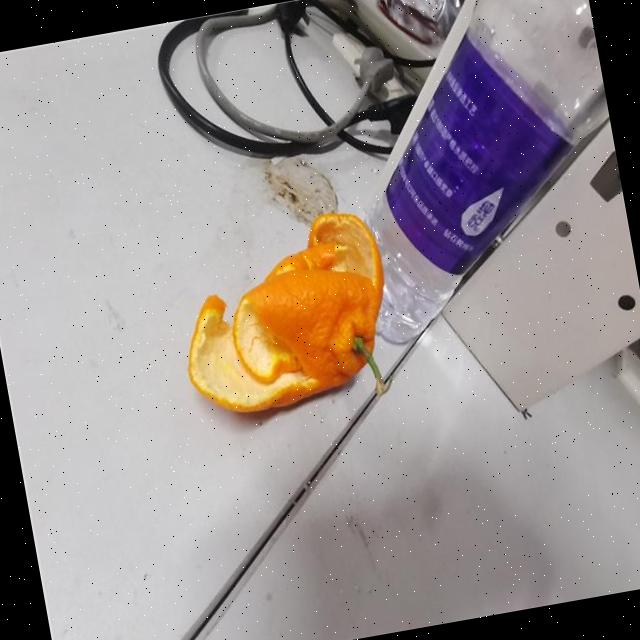orange-peel: (163, 203, 404, 424)
